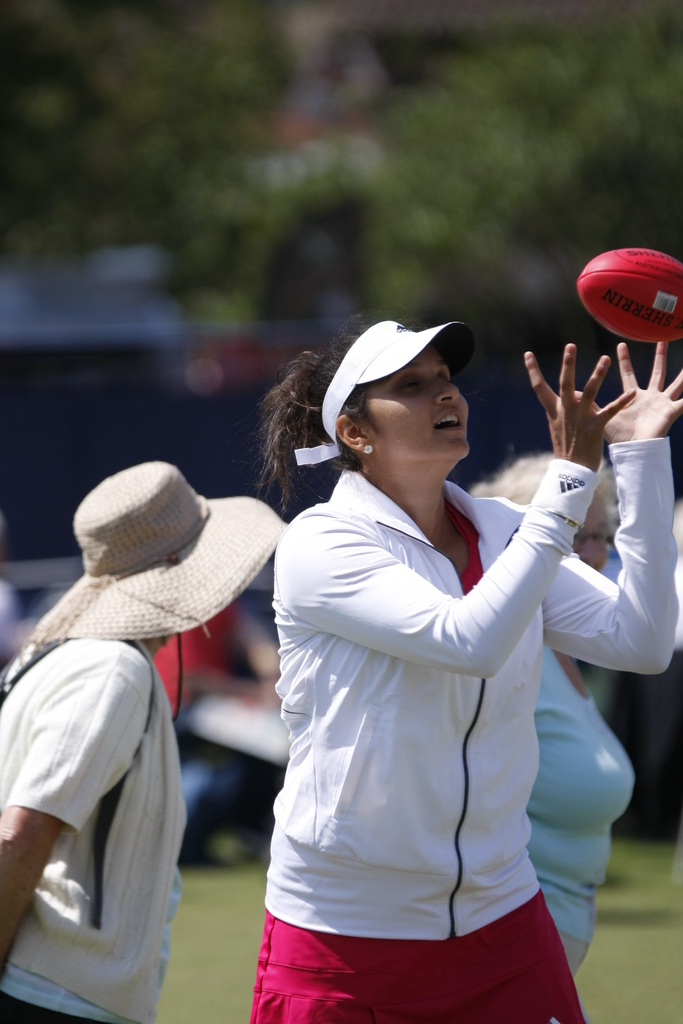Ball: (578, 248, 682, 351)
